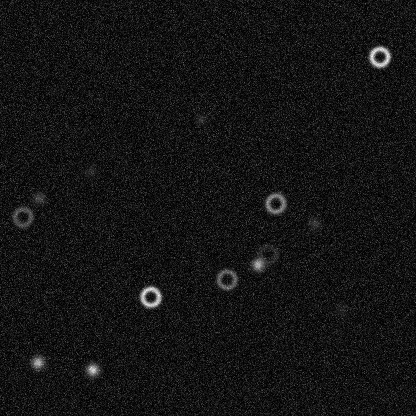Ring: (255, 242, 279, 266), (214, 267, 238, 291), (138, 284, 162, 308), (263, 191, 287, 215), (367, 44, 391, 68), (10, 204, 34, 228)
Spot: (249, 256, 265, 272), (306, 215, 322, 231), (332, 301, 348, 317), (29, 354, 45, 370), (30, 190, 46, 206), (82, 163, 98, 179), (193, 111, 209, 127), (84, 361, 100, 377)
